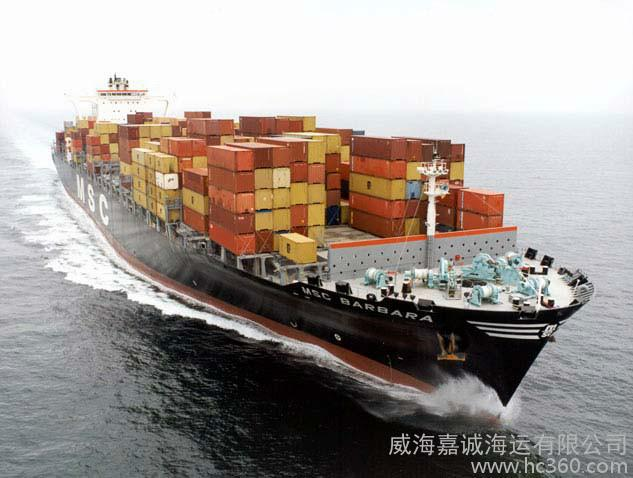Cargoship: (43, 67, 593, 421)
